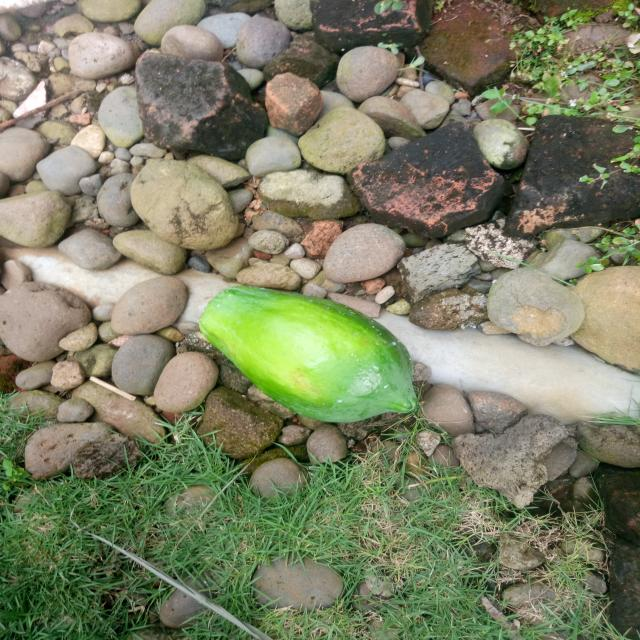Pepaya unrippen: (192, 284, 424, 426)
